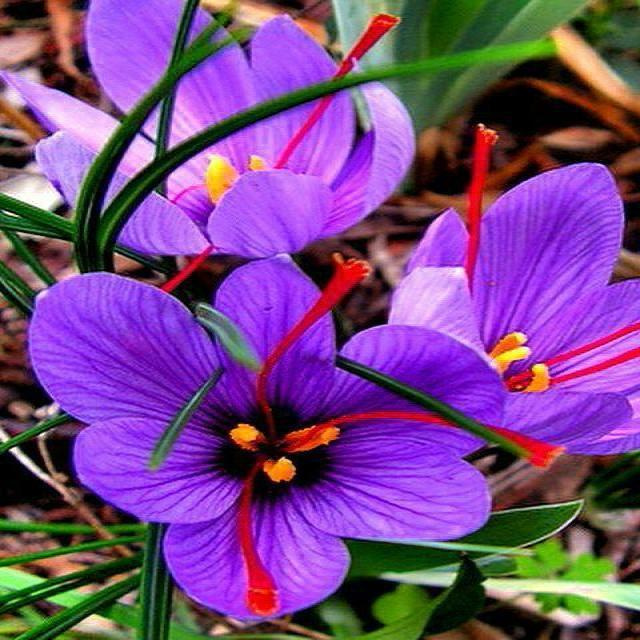Flower: (29, 258, 504, 616), (0, 0, 419, 256), (387, 160, 640, 458)
stigma: (250, 253, 381, 417), (279, 10, 402, 166), (300, 408, 569, 474), (510, 323, 640, 383), (236, 476, 287, 620), (463, 119, 502, 288), (547, 347, 640, 389)
